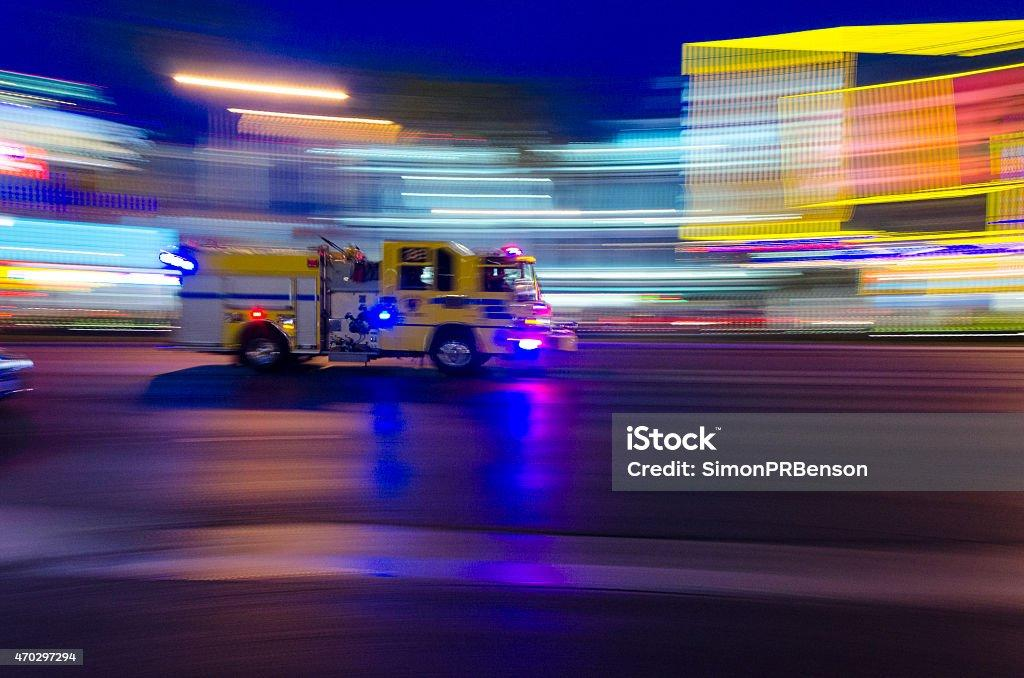firetruck_on: (173, 236, 581, 383)
